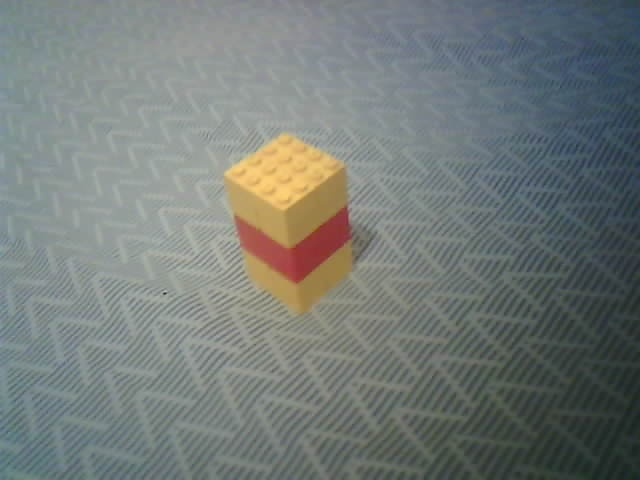lego: (222, 132, 356, 316)
